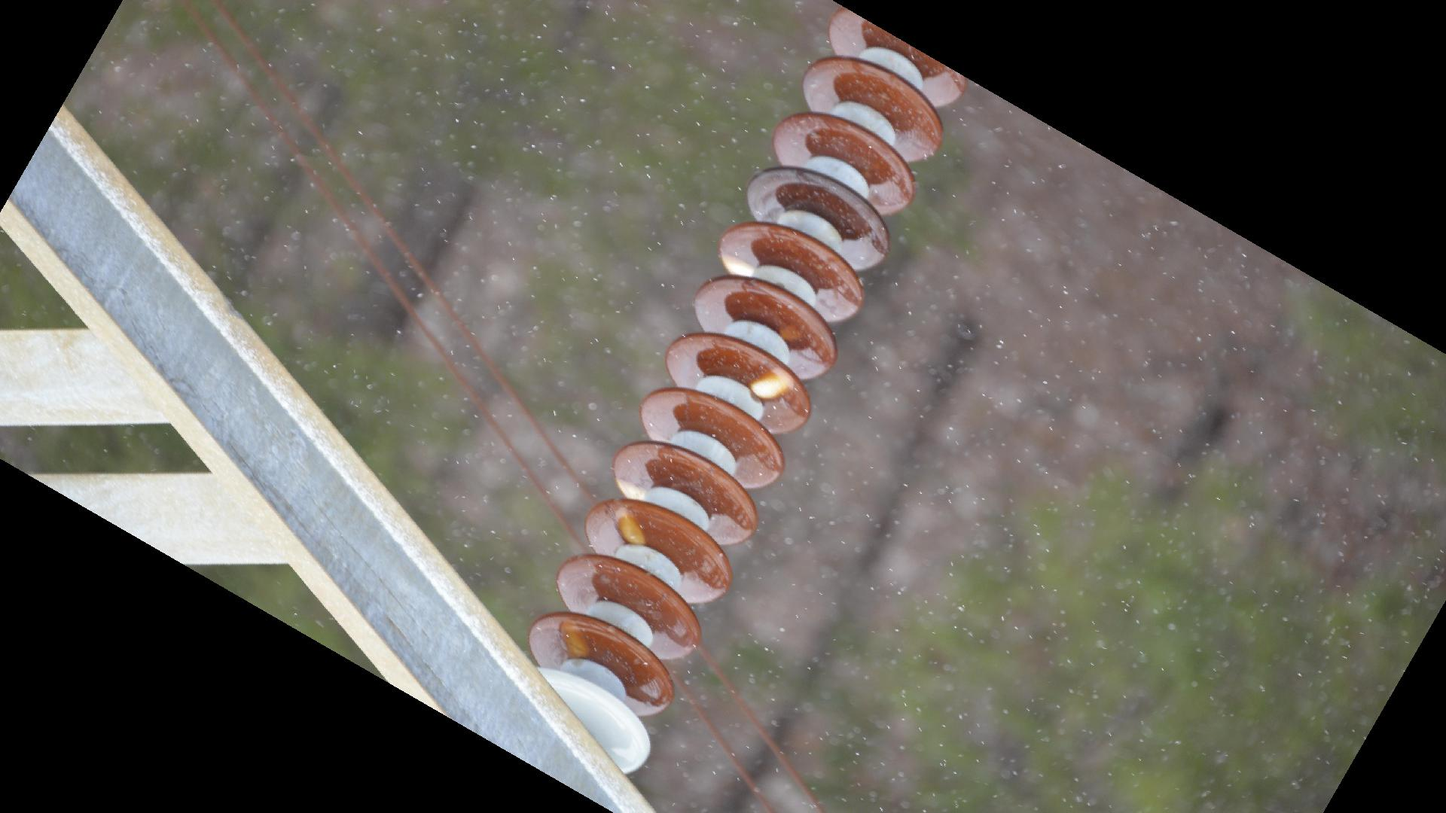insulator: (523, 1, 972, 723)
insulator_flashover: (749, 367, 795, 400), (615, 505, 650, 548), (558, 617, 591, 660), (718, 251, 754, 279), (614, 476, 645, 501)
